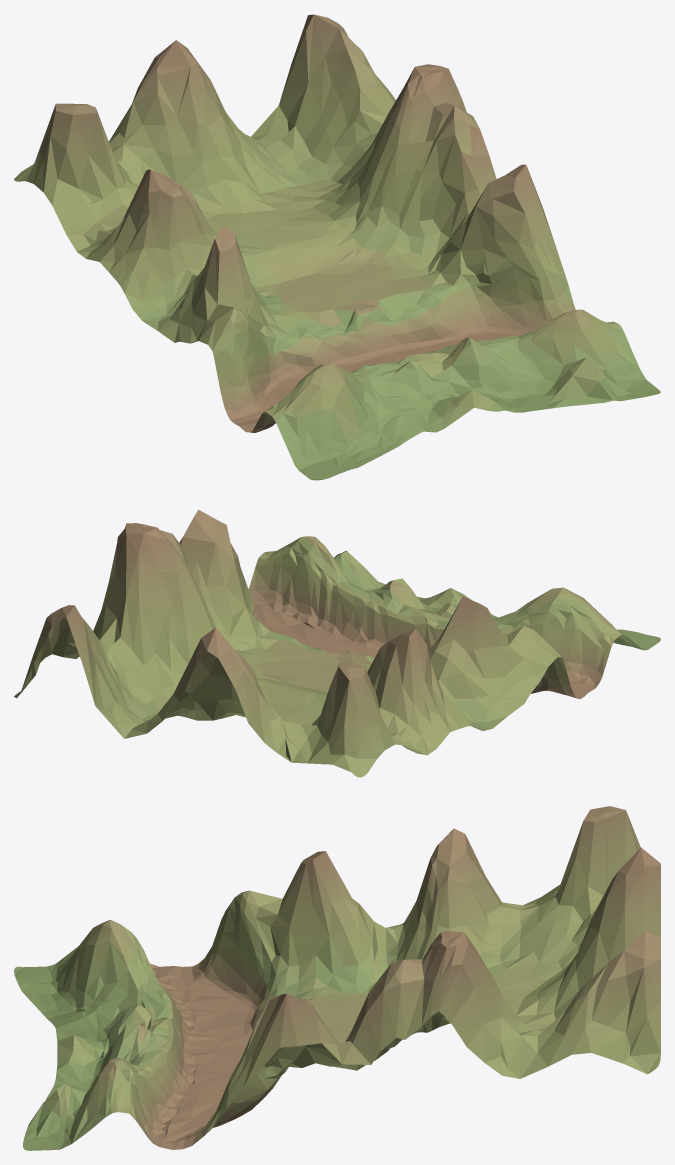
The picture shows the model from 3 angles, top to bottom: view 1: azimuth 30°, elevation 25°; view 2: azimuth 150°, elevation 25°; view 3: azimuth 270°, elevation 25°; orthographic projection. The views are drawn at different scales.
Parts seen in each view (by area): view 1: Terrain_0; view 2: Terrain_0; view 3: Terrain_0.
Part boxes in pixels (bbox=[...]): Terrain_0: bbox=[14, 14, 660, 480]; Terrain_0: bbox=[14, 509, 660, 777]; Terrain_0: bbox=[14, 806, 660, 1150].
Bounding box in the file's own units: 226 × 115 × 336.
1 material, 1 textured.
